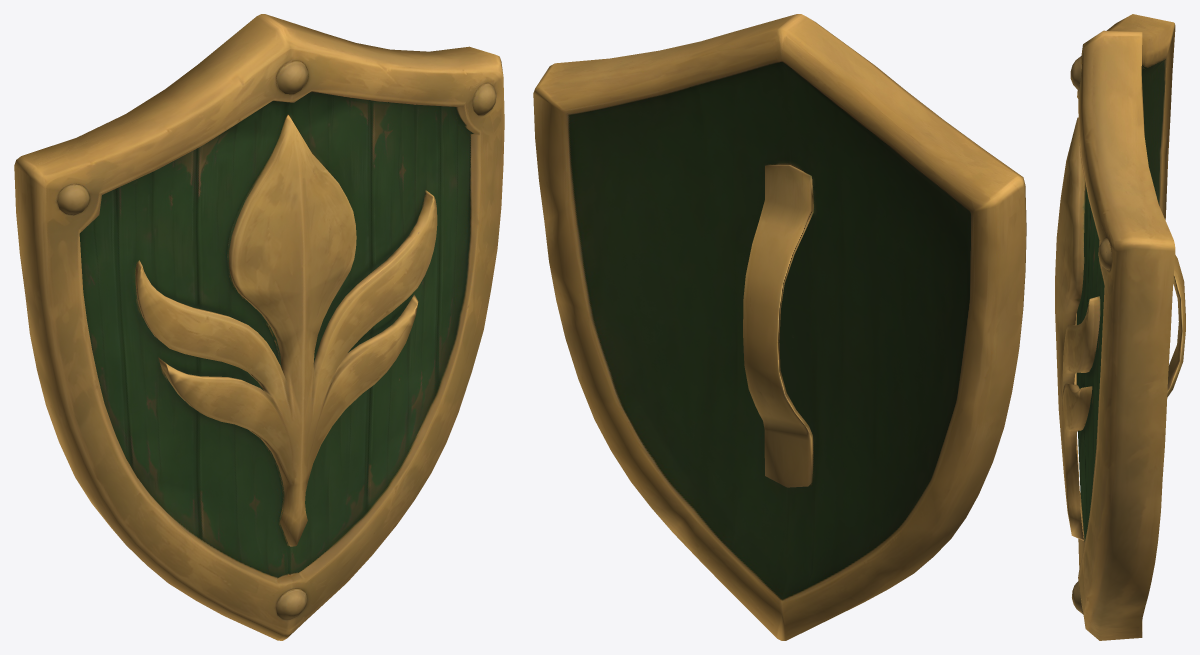
The model's file is elf-fighter-shield-p2-quad-textured-v1.fbx.
The picture shows the model from 3 angles, left to right: view 1: azimuth 30°, elevation 25°; view 2: azimuth 150°, elevation 25°; view 3: azimuth 270°, elevation 25°; orthographic projection.
Visible parts, largest first — view 1: tripo_9fba520d_def3_48dd_b59f_034ef2befa52; view 2: tripo_9fba520d_def3_48dd_b59f_034ef2befa52; view 3: tripo_9fba520d_def3_48dd_b59f_034ef2befa52.
Part boxes in pixels (bbox=[...]): tripo_9fba520d_def3_48dd_b59f_034ef2befa52: bbox=[14, 14, 504, 640]; tripo_9fba520d_def3_48dd_b59f_034ef2befa52: bbox=[533, 14, 1026, 640]; tripo_9fba520d_def3_48dd_b59f_034ef2befa52: bbox=[1055, 14, 1185, 640].
Bounding box in the file's own units: 0.8071 × 0.9995 × 0.1948.
1 material, 1 textured.
